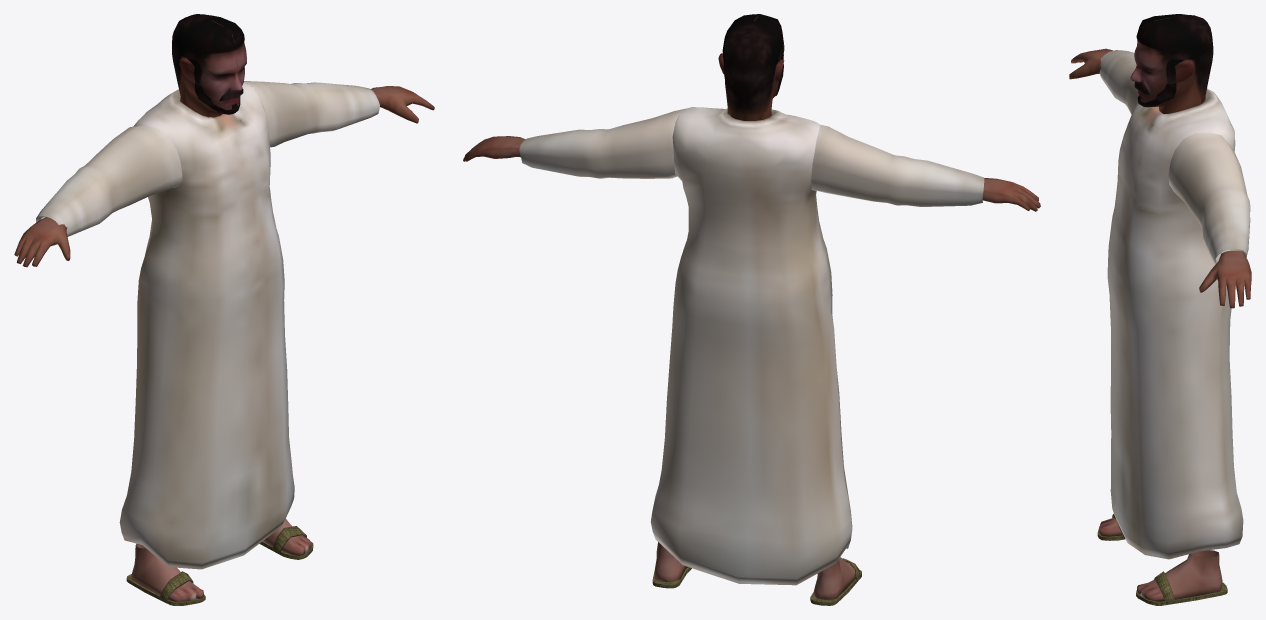
Rendered from guyWhole.fbx.
The picture shows the model from 3 angles, left to right: view 1: azimuth 30°, elevation 25°; view 2: azimuth 150°, elevation 25°; view 3: azimuth 270°, elevation 25°; orthographic projection. The views are drawn at different scales.
Visible parts, largest first — view 1: polySurface5; view 2: polySurface5; view 3: polySurface5.
Part boxes in pixels (box(x1,y1,x2,y2)): polySurface5: box(14, 14, 434, 605); polySurface5: box(463, 14, 1040, 605); polySurface5: box(1069, 14, 1251, 605).
Bounding box in the file's own units: 170 × 183 × 55.82.
